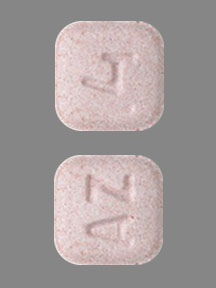Square: (53, 154, 161, 266), (55, 21, 163, 132)
